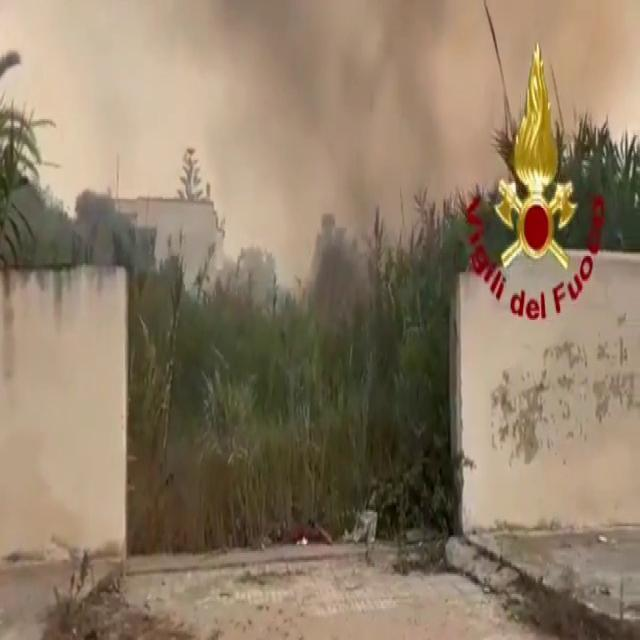Smoke: (220, 0, 468, 260)
